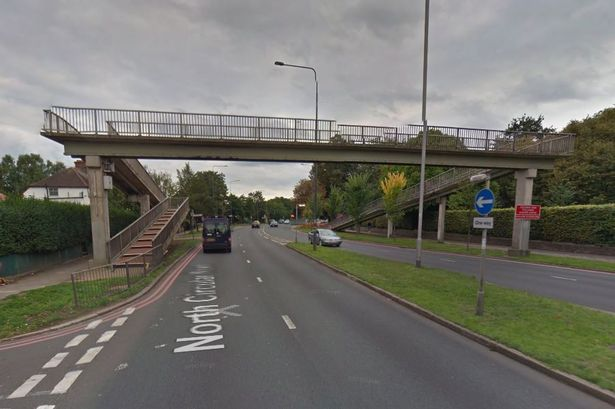bridge: (38, 104, 582, 172)
